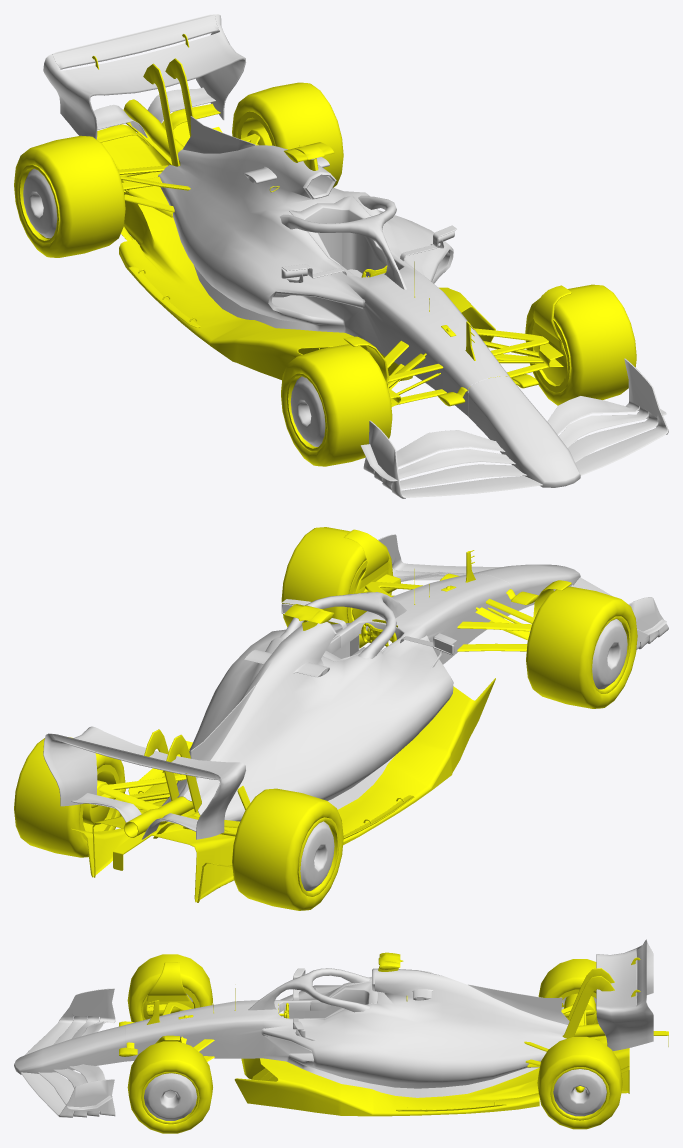
The model's file is F1PS_F1_Car_V07_CapUV.glb.
3 renders of one model, top to bottom at view 1: azimuth 30°, elevation 25°; view 2: azimuth 150°, elevation 25°; view 3: azimuth 270°, elevation 25°, orthographic. The views are drawn at different scales.
Visible parts, largest first — view 1: F1PS_F1_Car_Customizable, F1PS_F1_Car_Static; view 2: F1PS_F1_Car_Customizable, F1PS_F1_Car_Static; view 3: F1PS_F1_Car_Customizable, F1PS_F1_Car_Static.
Part boxes in pixels (x1,y1,x2,y2): F1PS_F1_Car_Customizable: (23,14,668,498); F1PS_F1_Car_Static: (14,34,636,466); F1PS_F1_Car_Customizable: (43,534,668,890); F1PS_F1_Car_Static: (14,527,637,910); F1PS_F1_Car_Customizable: (14,939,653,1120); F1PS_F1_Car_Static: (119,952,668,1133).
Bounding box in the file's own units: 2.2 × 1.15 × 5.52.
Materials: 2 (1 with a texture image).
